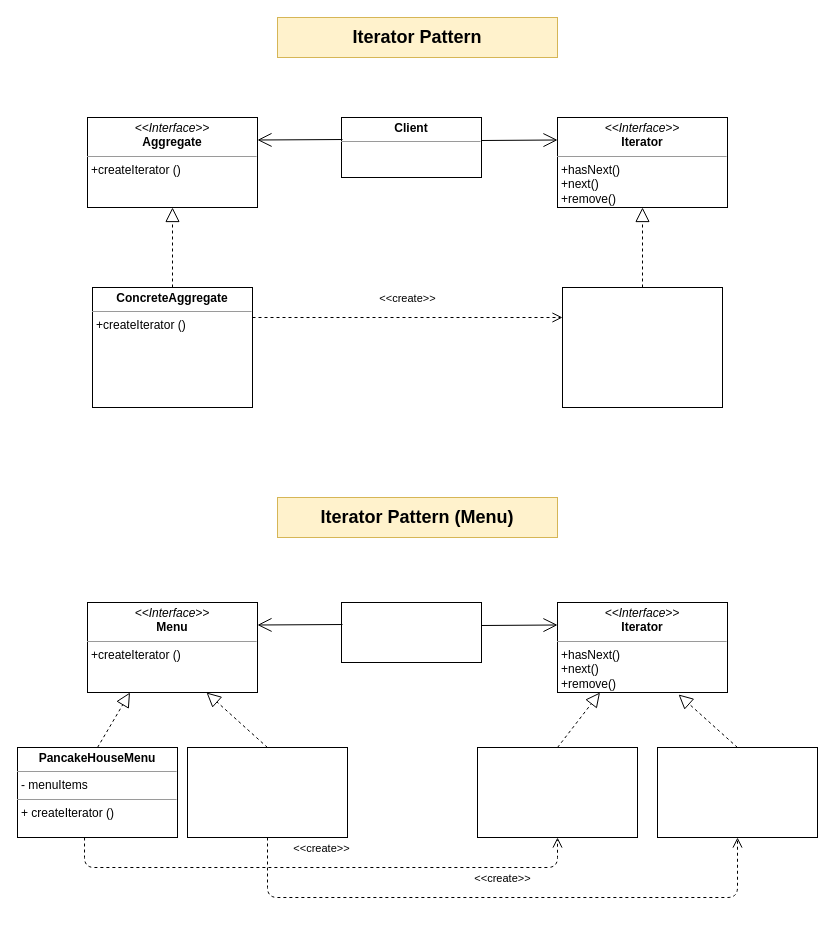
The diagram is 835 pixels wide and 925 high, and some of its shapes have lost their labels. Each missing label, with the centre of its shape:
"Class - menuItems + createIterator ()" belongs at (267,792).
"ConcreteIterator +hasNext() +next() +remove()" belongs at (642,347).
"DinerMenuIterator +hasNext() +next() +remove()" belongs at (737,792).
"PancakeHouseMenuIterator +hasNext() +next() +remove()" belongs at (557,792).
"Waitress +printMenu()" belongs at (411,632).
